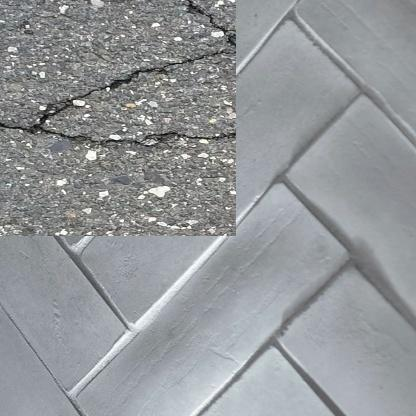Cracks: (0, 0, 218, 140)
